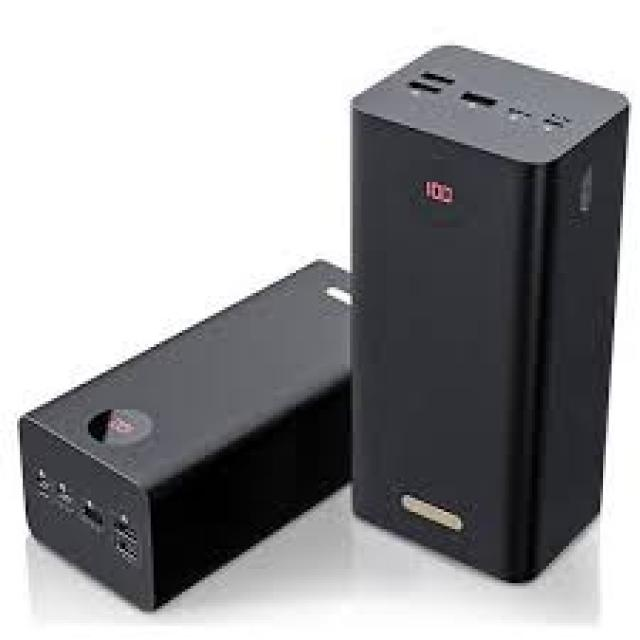portable-charger: (348, 42, 634, 586), (21, 256, 346, 610)
